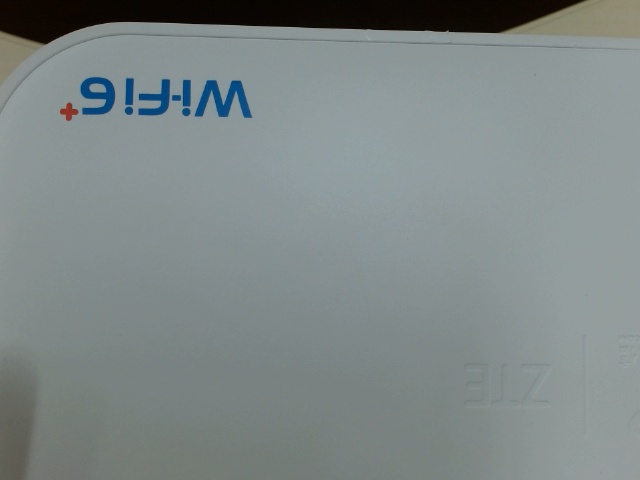AJ_ZTEWIFI6Plus: (49, 67, 264, 127)
